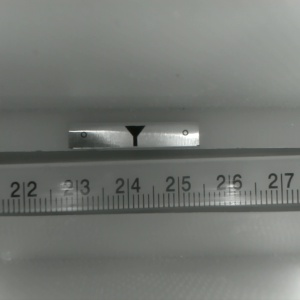2: (10, 181, 21, 197), (114, 177, 124, 194), (62, 179, 73, 194), (267, 173, 277, 189), (215, 174, 225, 189), (165, 176, 174, 192)
3: (79, 178, 89, 194)
4: (130, 177, 140, 193)
5: (181, 176, 190, 191)
6: (231, 173, 241, 189)
7: (283, 172, 294, 189)
finger: (123, 126, 145, 147)
